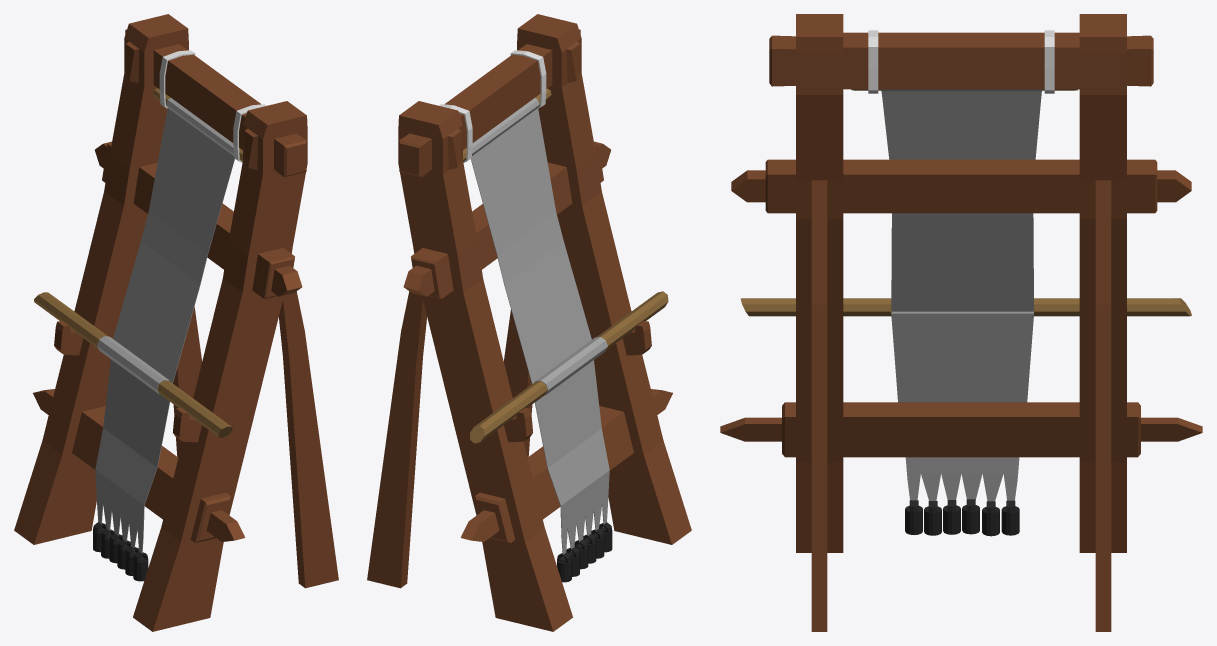
The model's file is Webstuhl.fbx.
The picture shows the model from 3 angles, left to right: view 1: azimuth 30°, elevation 25°; view 2: azimuth 150°, elevation 25°; view 3: azimuth 270°, elevation 25°; orthographic projection. The views are drawn at different scales.
Parts seen in each view (by area): view 1: Weebstuhl, Circle.002, Circle, Plane; view 2: Weebstuhl, Circle.002, Circle, Plane; view 3: Weebstuhl, Circle.002, Circle, Plane.
Boxes of the visible parts, box(x1,y1,x2,y2) form: Weebstuhl: box(14, 14, 338, 631); Circle.002: box(95, 98, 234, 553); Circle: box(34, 292, 232, 437); Plane: box(159, 50, 266, 162); Weebstuhl: box(367, 14, 691, 631); Circle.002: box(471, 98, 609, 554); Circle: box(470, 291, 668, 443); Plane: box(439, 50, 546, 162); Weebstuhl: box(720, 14, 1202, 631); Circle.002: box(881, 89, 1042, 501); Circle: box(740, 298, 1191, 316); Plane: box(868, 30, 1054, 93).
Bounding box in the file's own units: 738 × 967 × 408.
